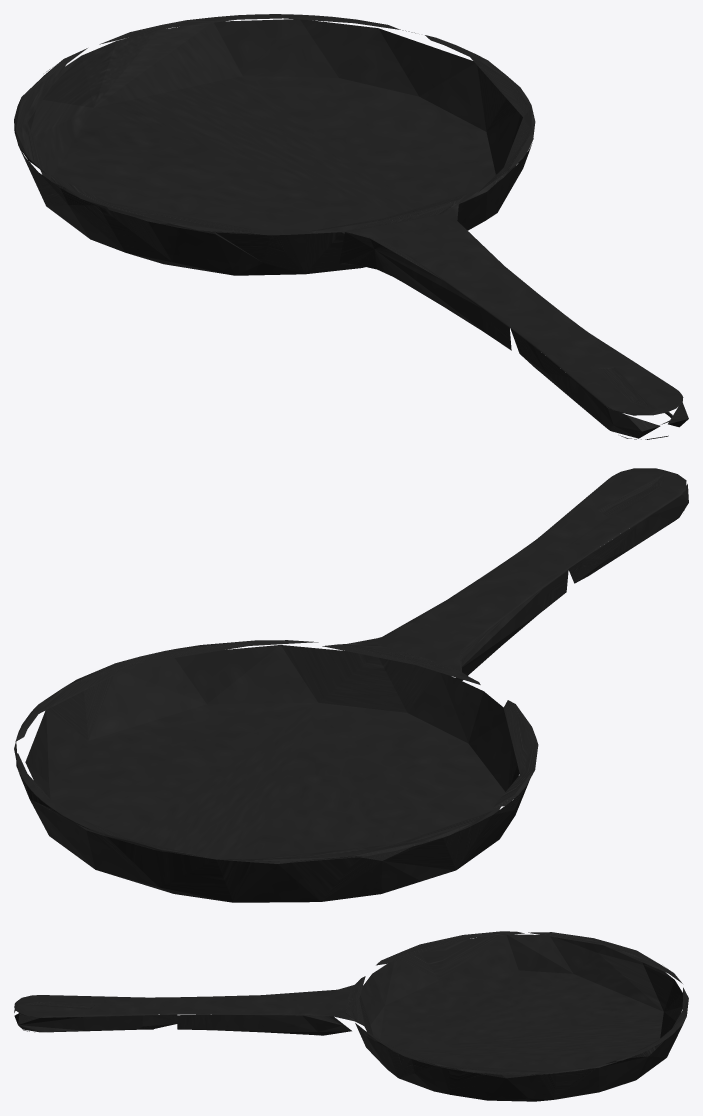
Rendered from kitchenware_pan_r01.glb.
3 views of the same model, one above another, from view 1: azimuth 30°, elevation 25°; view 2: azimuth 150°, elevation 25°; view 3: azimuth 270°, elevation 25° (orthographic). The views are drawn at different scales.
Parts seen in each view (by area): view 1: geometry_0; view 2: geometry_0; view 3: geometry_0.
Part boxes in pixels (left/top/right/bottom): geometry_0: left=14, top=14, right=688, bottom=439; geometry_0: left=14, top=468, right=688, bottom=902; geometry_0: left=14, top=931, right=688, bottom=1101.
Bounding box in the file's own units: 0.2114 × 0.0242 × 0.42.
1 material, 1 textured.
